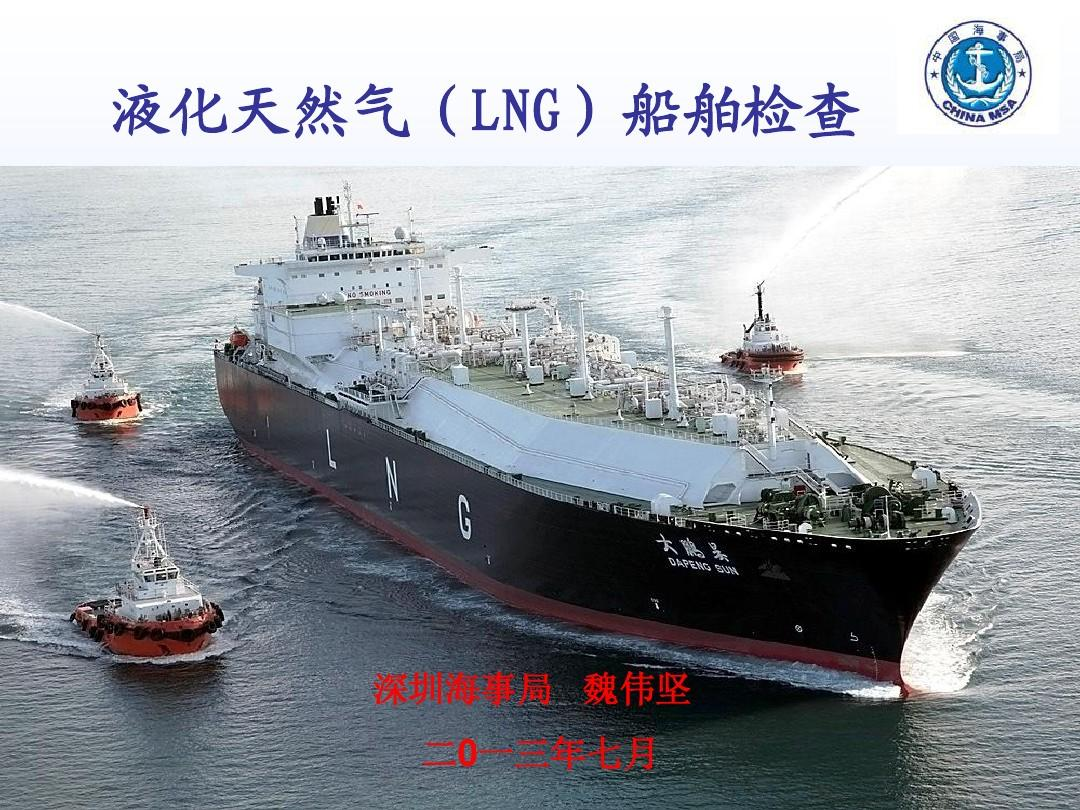Cargoship: (200, 193, 983, 702)
otherboat: (74, 506, 224, 661), (718, 276, 809, 374), (70, 329, 141, 431)
